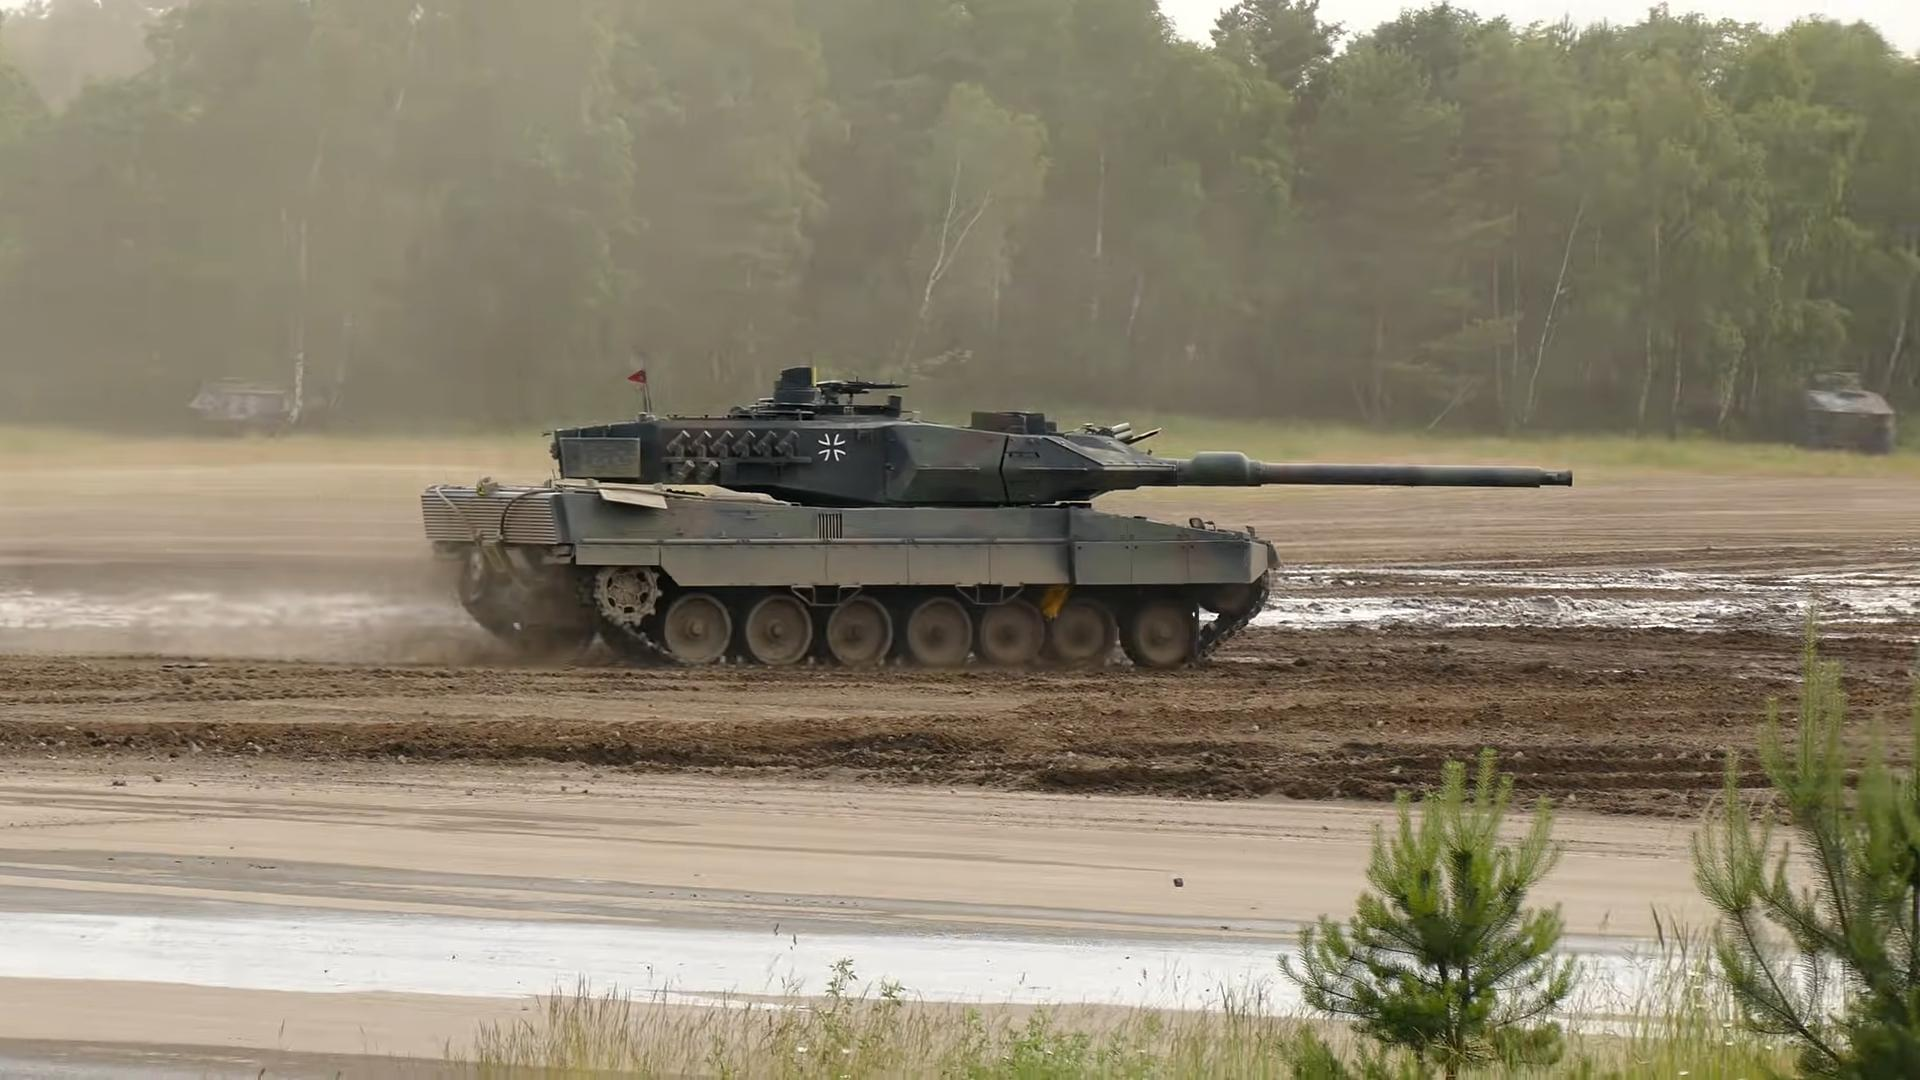tank: (418, 365, 1571, 667), (1779, 369, 1895, 455)
